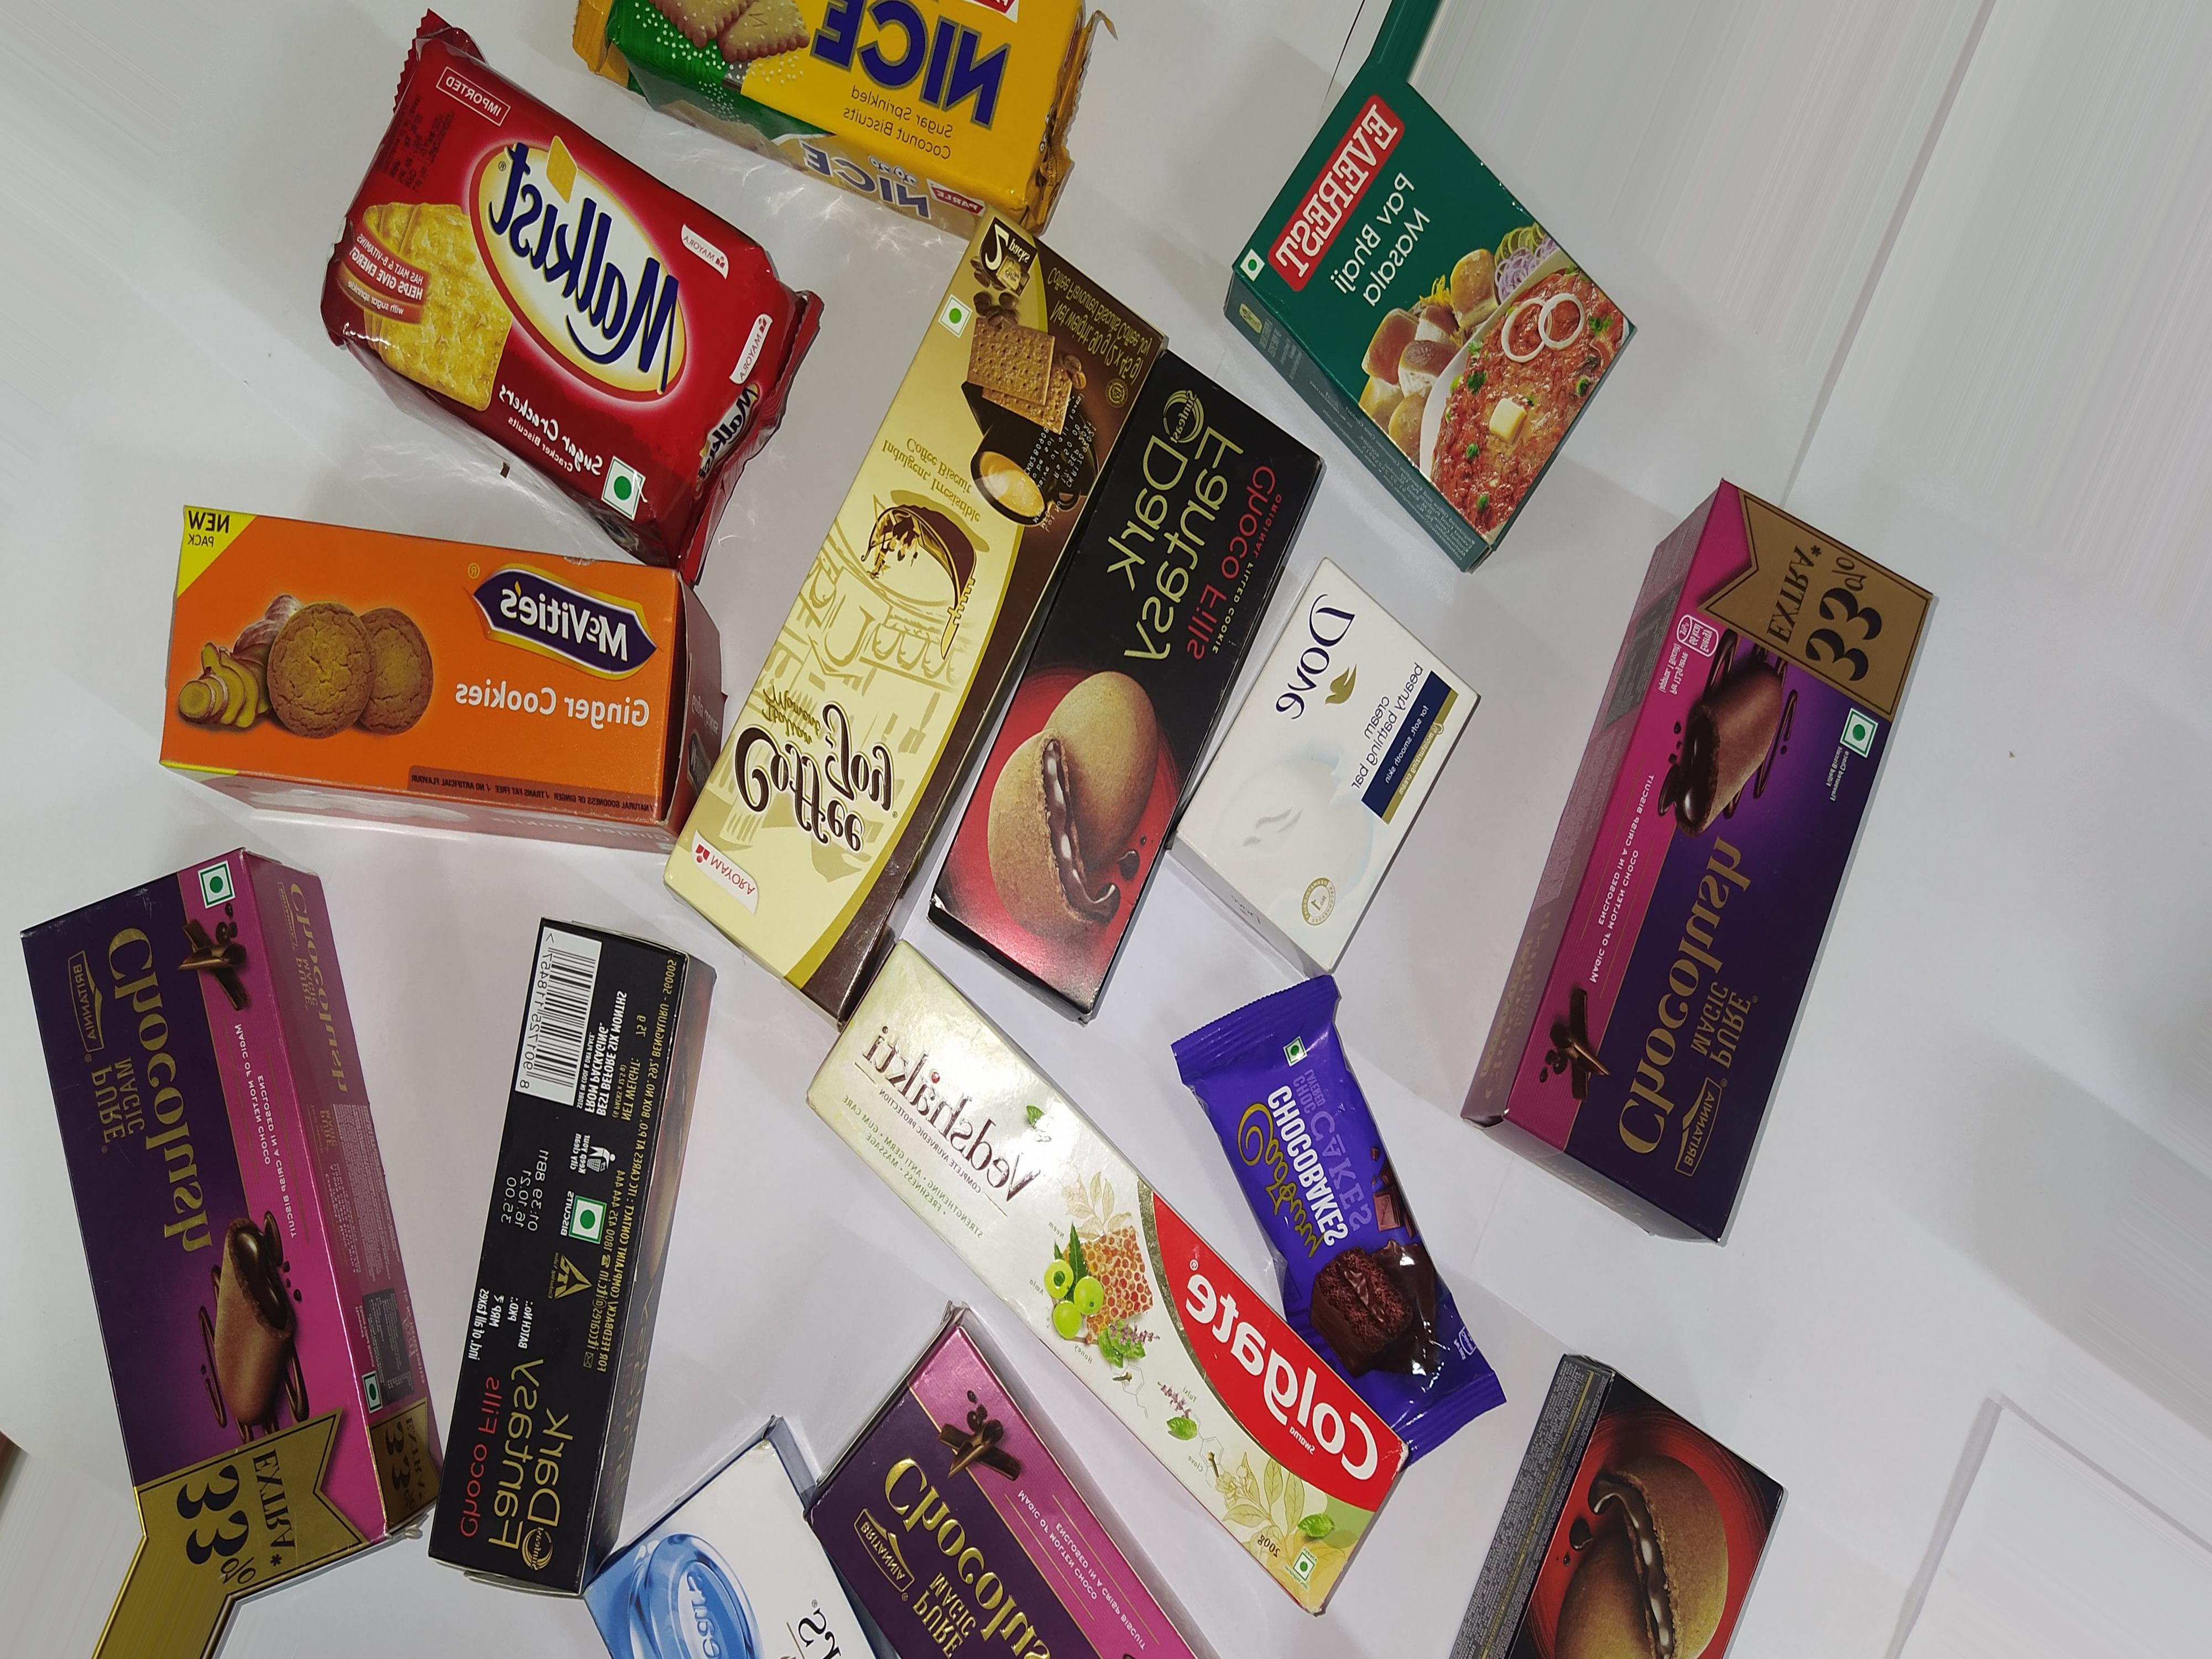Bar_code: (484, 913, 622, 1133)
Item: (754, 964, 1420, 1649), (10, 863, 442, 1649), (1521, 462, 1898, 1290), (305, 68, 796, 559), (99, 490, 747, 861), (442, 871, 728, 1607), (1244, 84, 1632, 575), (608, 0, 1123, 253), (1197, 592, 1491, 1021), (1472, 1331, 1784, 1659)
